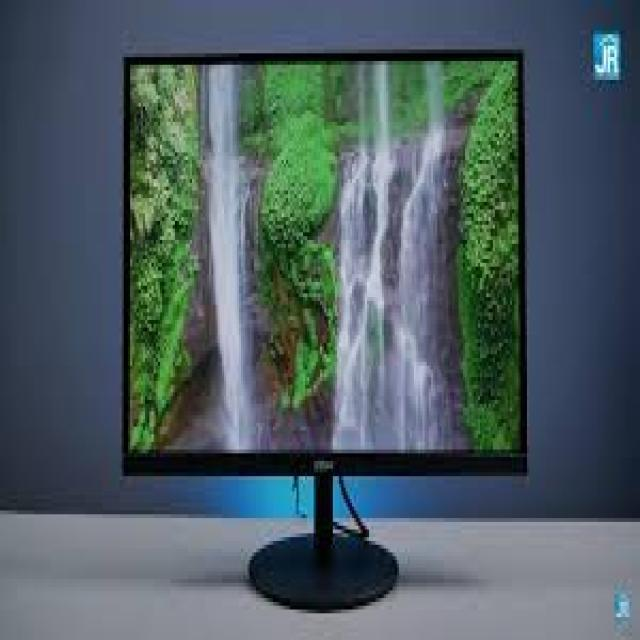monitor: (110, 30, 529, 640)
